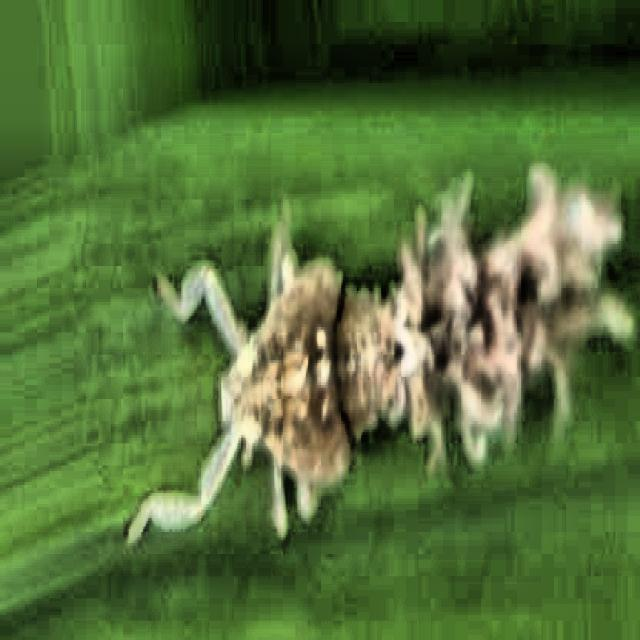Pyrilla-perpusilla: (90, 77, 640, 640)
